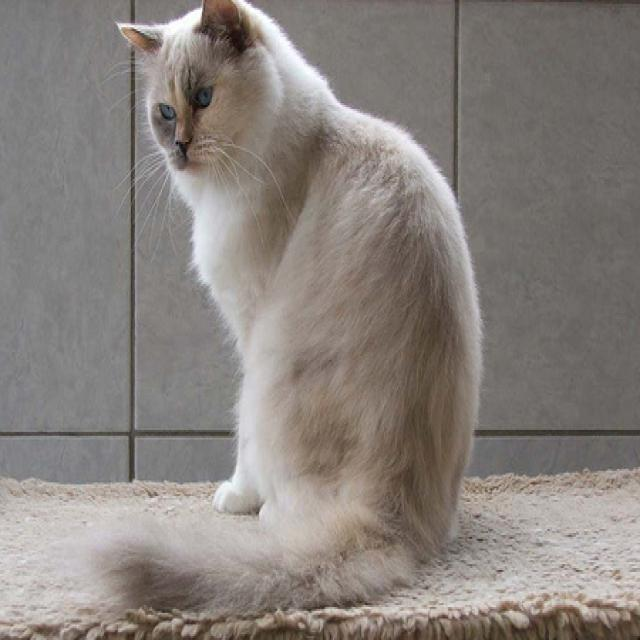Ragdoll: (93, 0, 486, 624)
